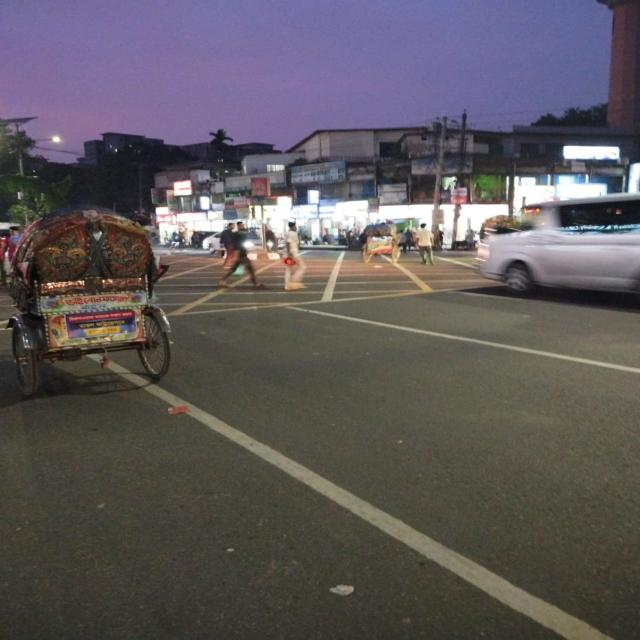person: (229, 219, 258, 293), (281, 220, 305, 288), (216, 219, 239, 275), (414, 223, 438, 266)
